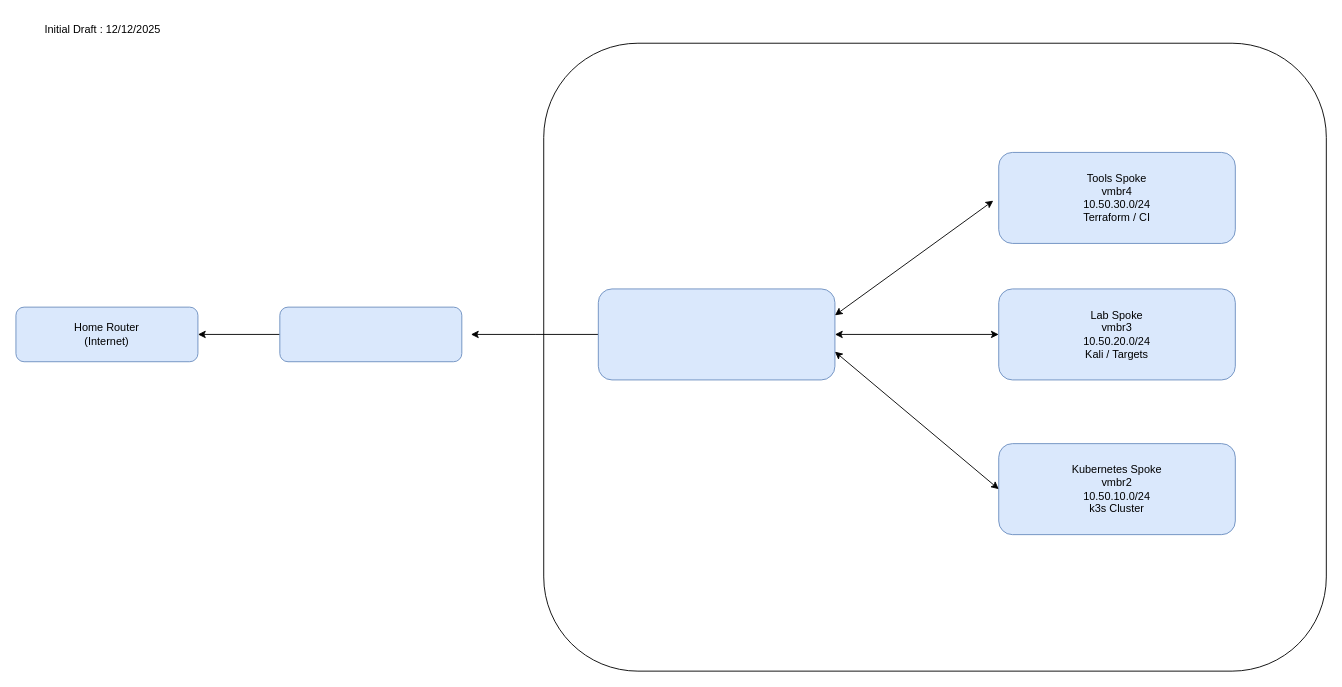
Some shapes in this 1342 by 687 pixel diagram are drawn without their labels. Here are the shapes that lost their labels. From the top down, the centre of each, then its label:
the point at 370,334: Proxmox Host vmbr0 (WAN)
the point at 716,334: Hub Network vmbr1 10.50.0.0/24 pfSense (Hub Firewall) / DNS / SIEM / Jump
